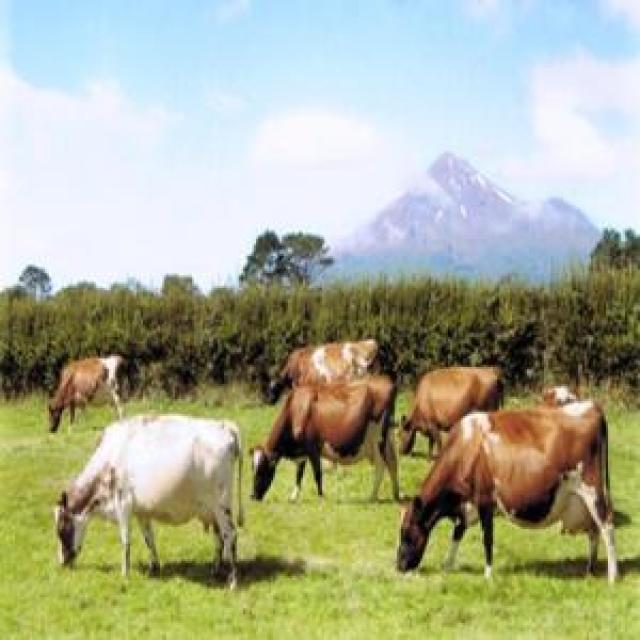not_pig: (394, 397, 618, 584), (51, 412, 243, 591), (247, 371, 399, 504), (397, 362, 503, 458), (264, 337, 380, 403), (45, 352, 126, 433)
